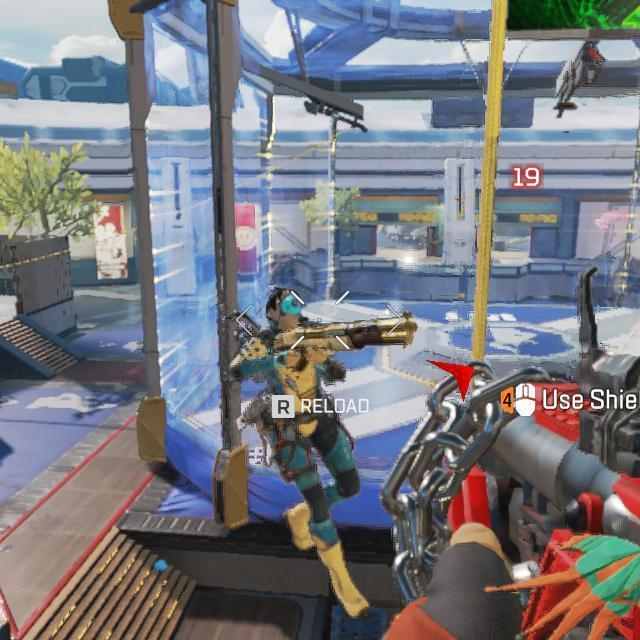avatar: (229, 285, 420, 615)
